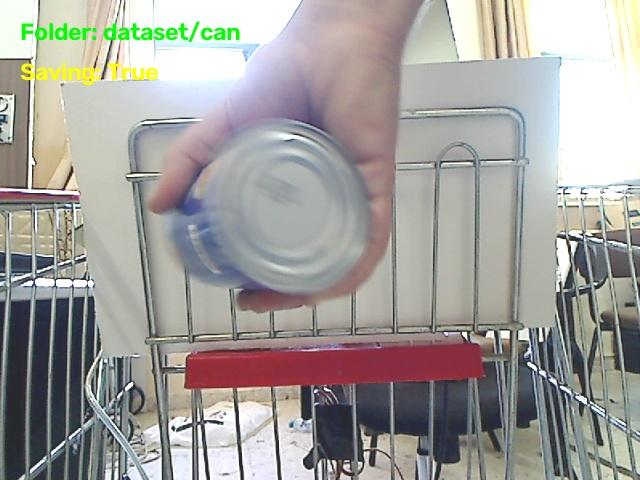can: (168, 120, 369, 293)
